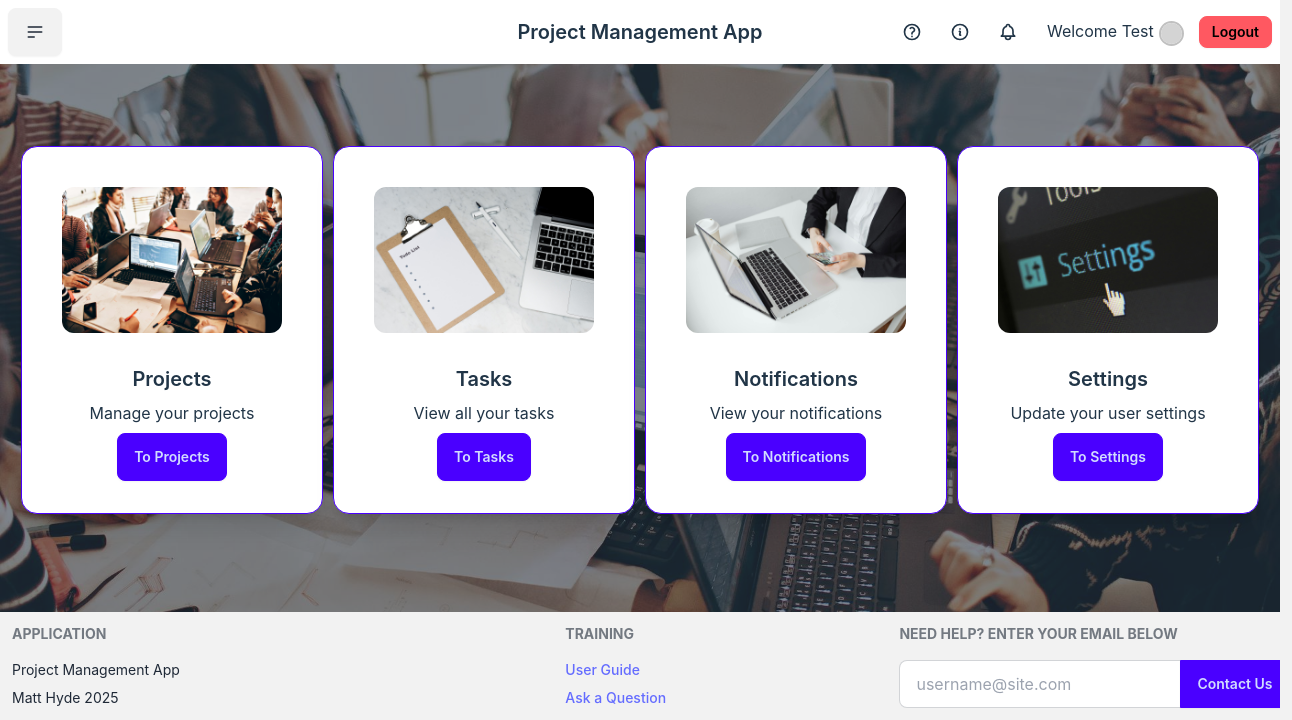
Test: User Guide › renders the user guide page, checks that the content has loaded
This screenshot has width=1292, height=720.
Click the link with test id "user-guide-btn" at (603, 670), box left=565, top=660, right=640, bottom=680
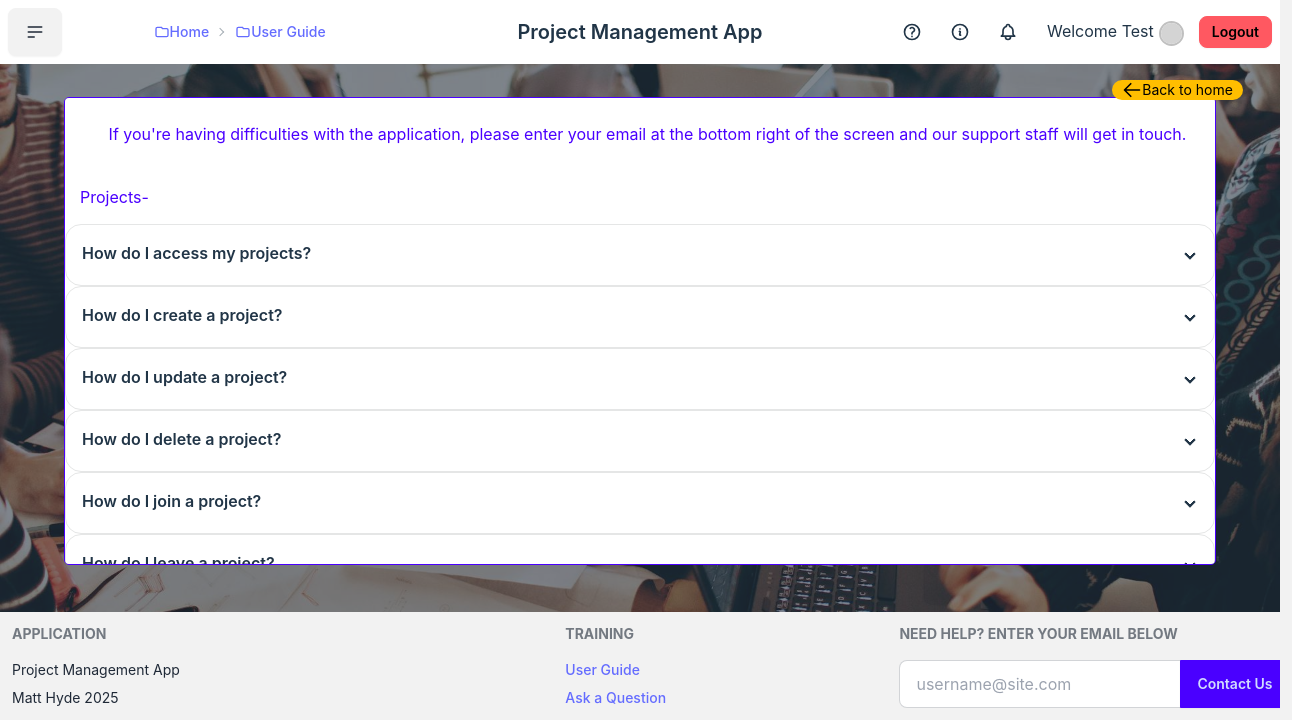
Result: the element with test id "user-guide-breadcrumbs" is shown at left=154, top=23, right=326, bottom=40
Result: the 1st element with test id "user-guide" is shown at left=64, top=97, right=1216, bottom=565
